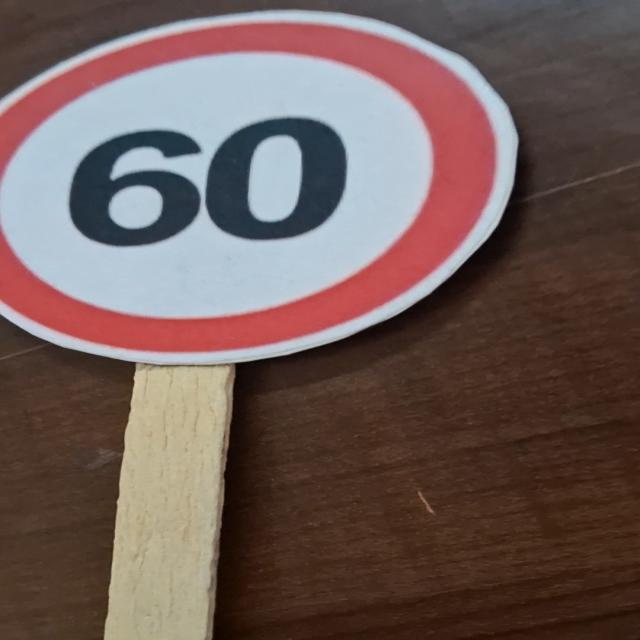Speed60: (0, 7, 520, 368)
